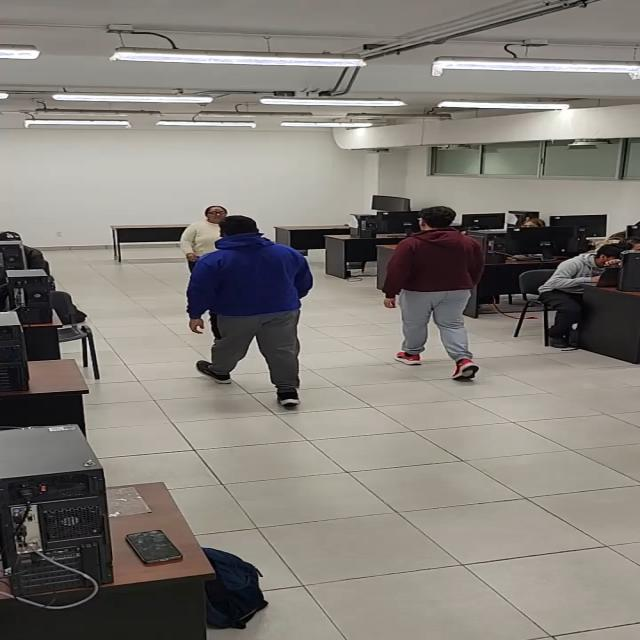Persona: (188, 215, 320, 406), (382, 205, 487, 381), (178, 203, 226, 275)
